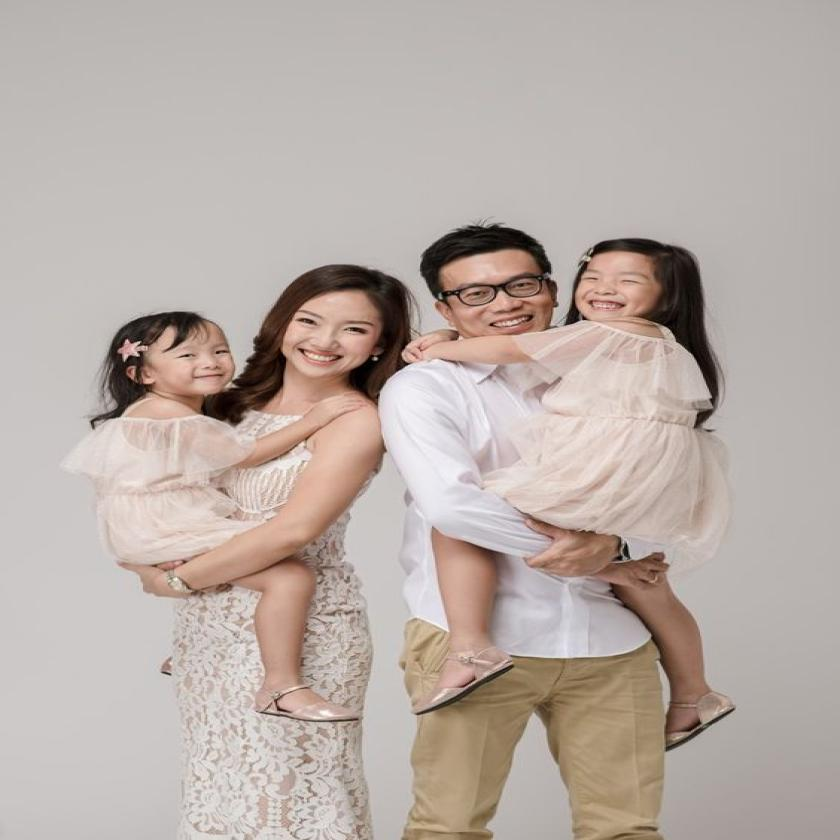Sin_casco: (419, 224, 566, 374), (279, 266, 408, 412), (573, 240, 704, 350), (117, 309, 240, 420)
